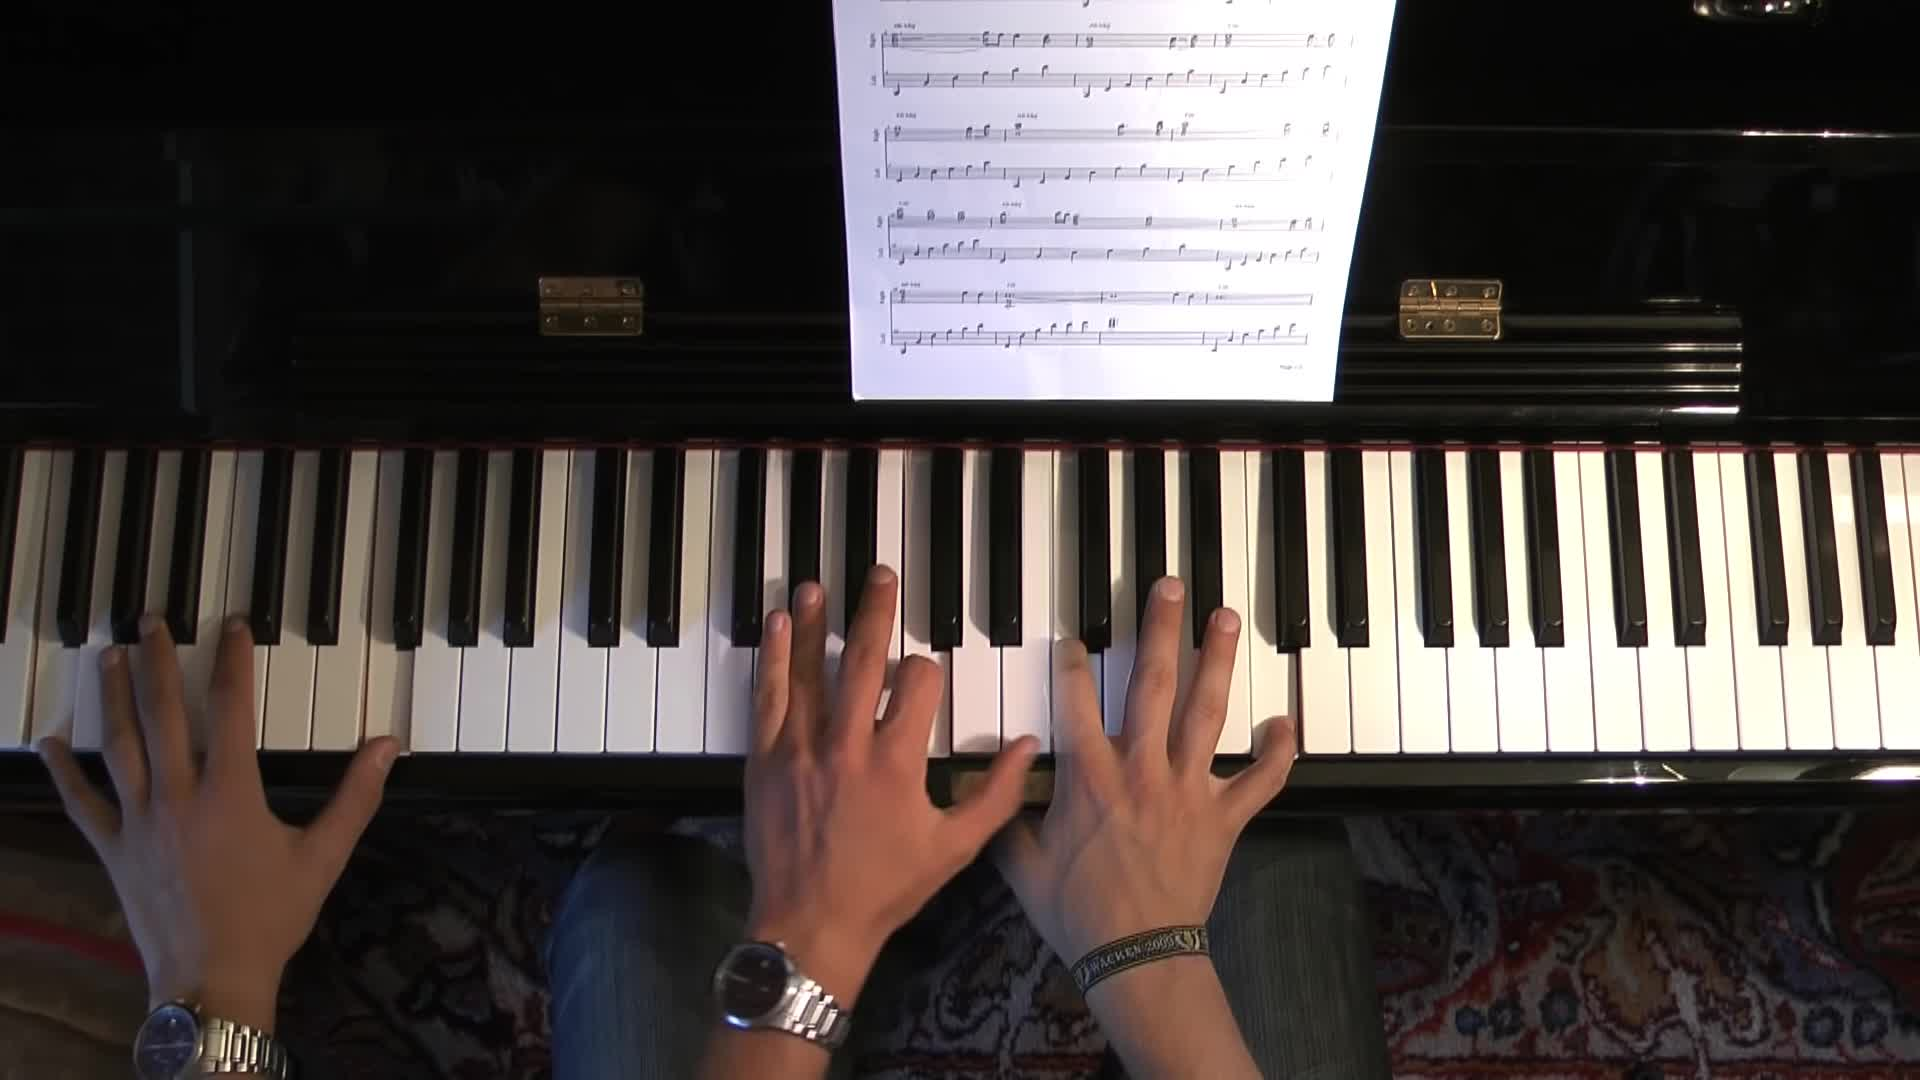left: (36, 603, 415, 978), (748, 560, 1040, 934)
right: (963, 576, 1292, 963)
